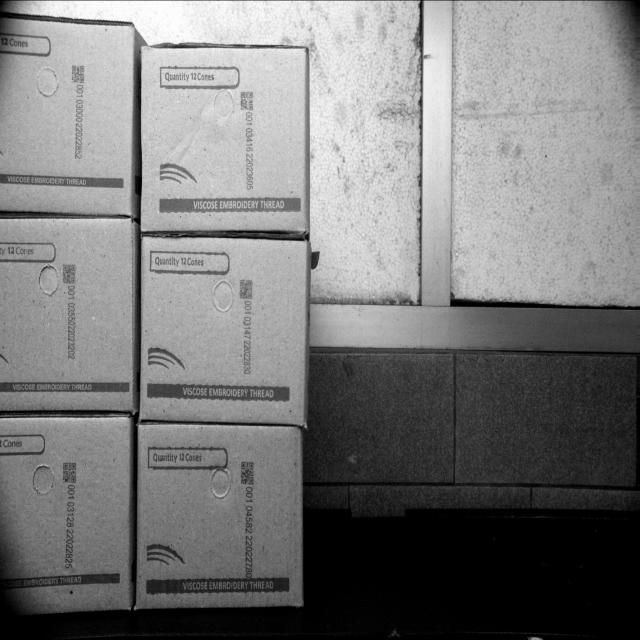cardboxes: (139, 416, 307, 614), (146, 41, 314, 238), (141, 232, 303, 424), (0, 13, 132, 223), (1, 220, 132, 416), (1, 420, 132, 614)
